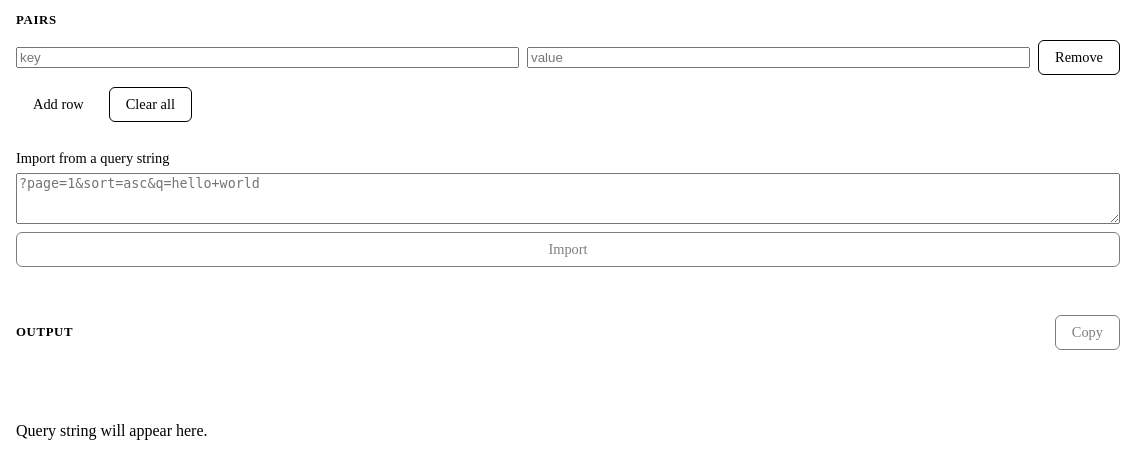
Test: QueryStringBuilderTool › clears all rows
In the field named "Key 1": (268, 58) [16,47,519,68], type "a"
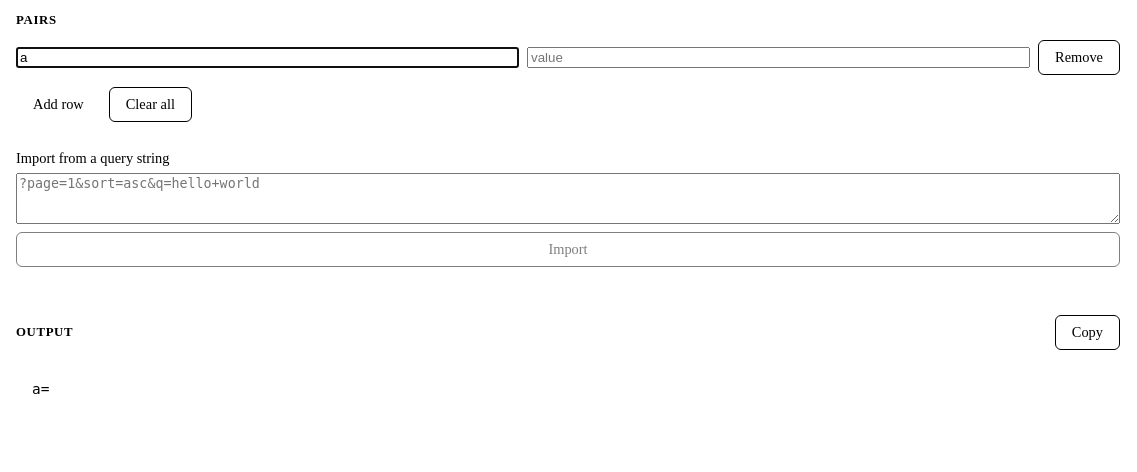
In the field named "Value 1": (778, 58) [527,47,1030,68], type "1"
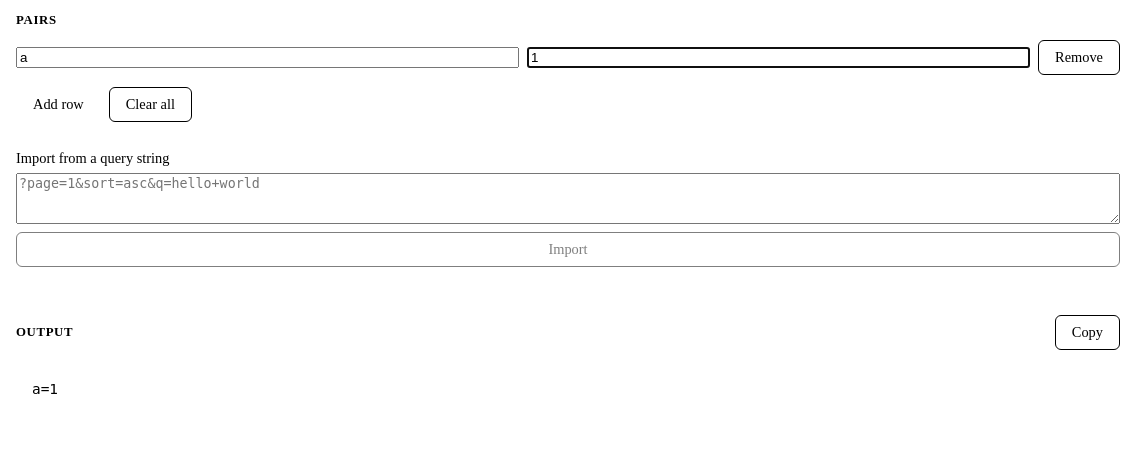
Result: the text with test id "query-string-output" reads "a=1" at [32,381,58,397]
Click the button "Clear all": click(150, 104) [109,87,192,122]
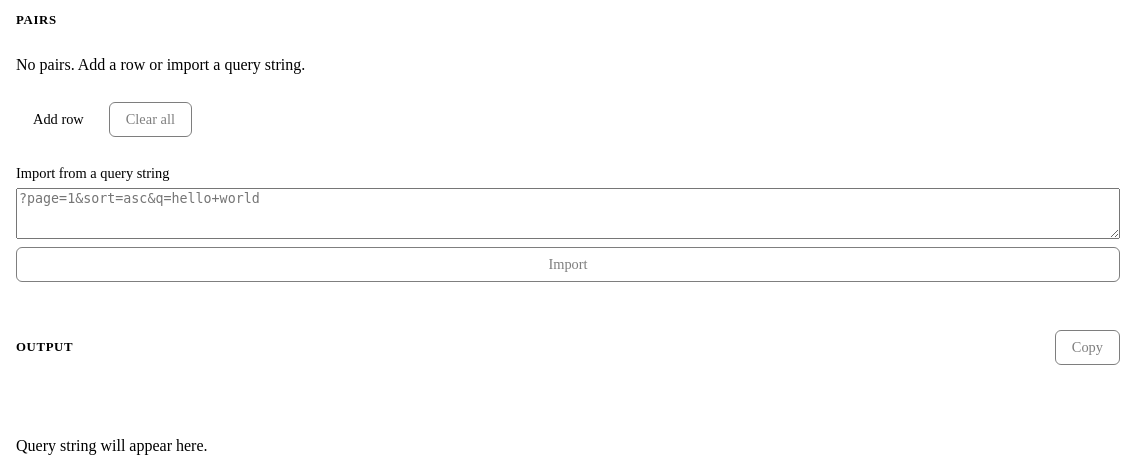
Result: the text "No pairs. Add a row or import a query string." is shown at [16,56,305,73]
